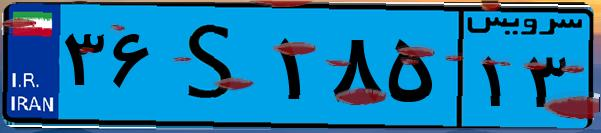1: (270, 28, 330, 110), (475, 38, 525, 113)
3: (57, 26, 110, 100), (525, 38, 570, 115)
5: (385, 28, 445, 110)
6: (110, 28, 158, 98)
8: (330, 28, 385, 110)
S: (158, 12, 270, 120)
